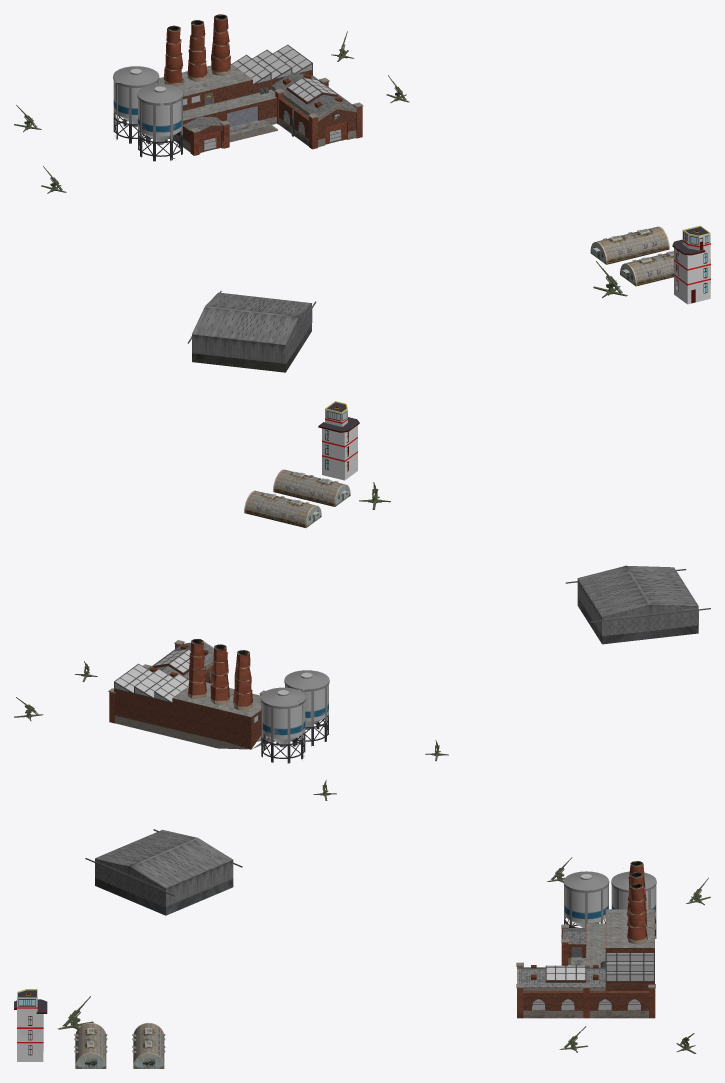
File: Schweinfurt.glb
3 renders of one model, top to bottom at view 1: azimuth 30°, elevation 25°; view 2: azimuth 150°, elevation 25°; view 3: azimuth 270°, elevation 25°, orthographic. The views are drawn at different scales.
Visible parts, largest first — view 1: Object_2, Object_2.001, German.Control.Tower.1.700, Cylinder001_Barrack Texture Map_0.002, Cylinder001_Barrack Texture Map_0.001; view 2: Object_2, Object_2.001, German.Control.Tower.1.700, Cylinder001_Barrack Texture Map_0.002, Cylinder001_Barrack Texture Map_0.001; view 3: Object_2, Object_2.001, German.Control.Tower.1.700, Cylinder001_Barrack Texture Map_0.002, Cylinder001_Barrack Texture Map_0.001.
Boxes of the visible parts, bbox=[...] form: Object_2: bbox=[113, 14, 363, 161]; Object_2.001: bbox=[187, 291, 316, 372]; German.Control.Tower.1.700: bbox=[672, 225, 710, 304]; Cylinder001_Barrack Texture Map_0.002: bbox=[590, 226, 669, 264]; Cylinder001_Barrack Texture Map_0.001: bbox=[620, 251, 673, 286]; Object_2: bbox=[108, 639, 329, 763]; Object_2.001: bbox=[565, 565, 710, 644]; German.Control.Tower.1.700: bbox=[318, 401, 359, 480]; Cylinder001_Barrack Texture Map_0.002: bbox=[244, 490, 321, 527]; Cylinder001_Barrack Texture Map_0.001: bbox=[273, 469, 350, 506]; Object_2: bbox=[516, 861, 656, 1018]; Object_2.001: bbox=[85, 829, 242, 915]; German.Control.Tower.1.700: bbox=[14, 989, 47, 1061]; Cylinder001_Barrack Texture Map_0.002: bbox=[132, 1022, 165, 1068]; Cylinder001_Barrack Texture Map_0.001: bbox=[74, 1023, 107, 1068].
Size of the model in its own units: 203 by 42.26 by 264.
Materials: 21 (5 with a texture image).
